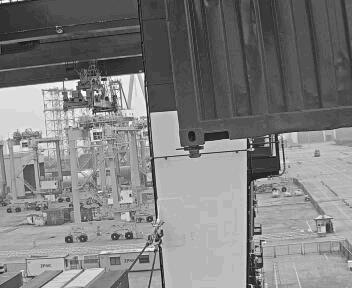twist_lock_1: (125, 166, 188, 207)
